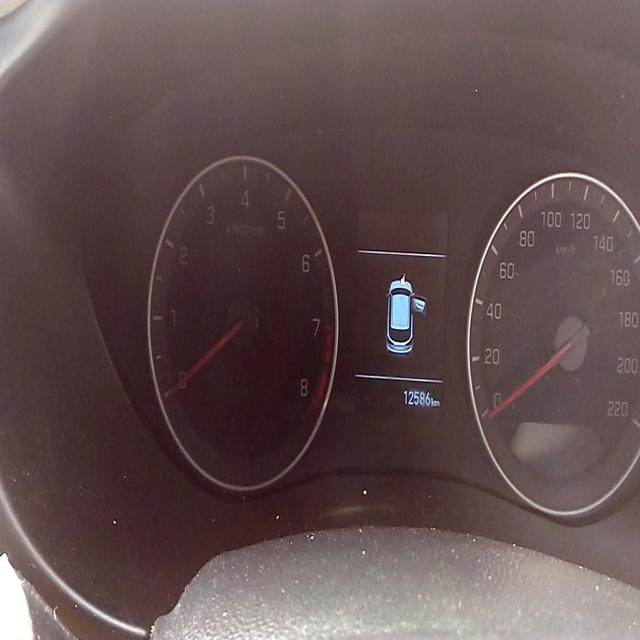odometer: (400, 385, 432, 416)
